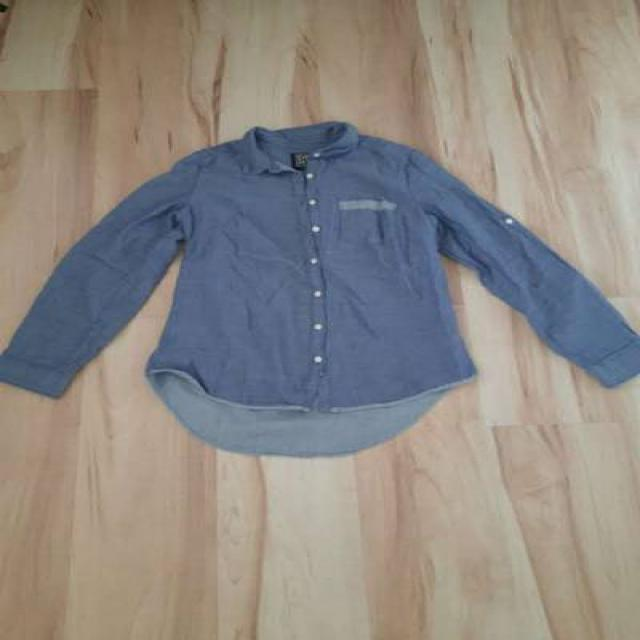Clothes -Biodegradable-: (0, 118, 640, 457)
